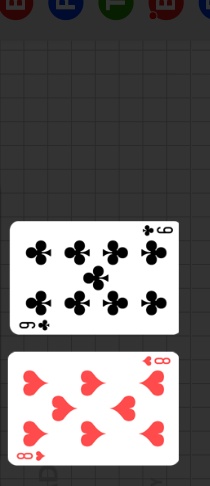9C: (140, 224, 174, 239), (17, 319, 51, 333)
